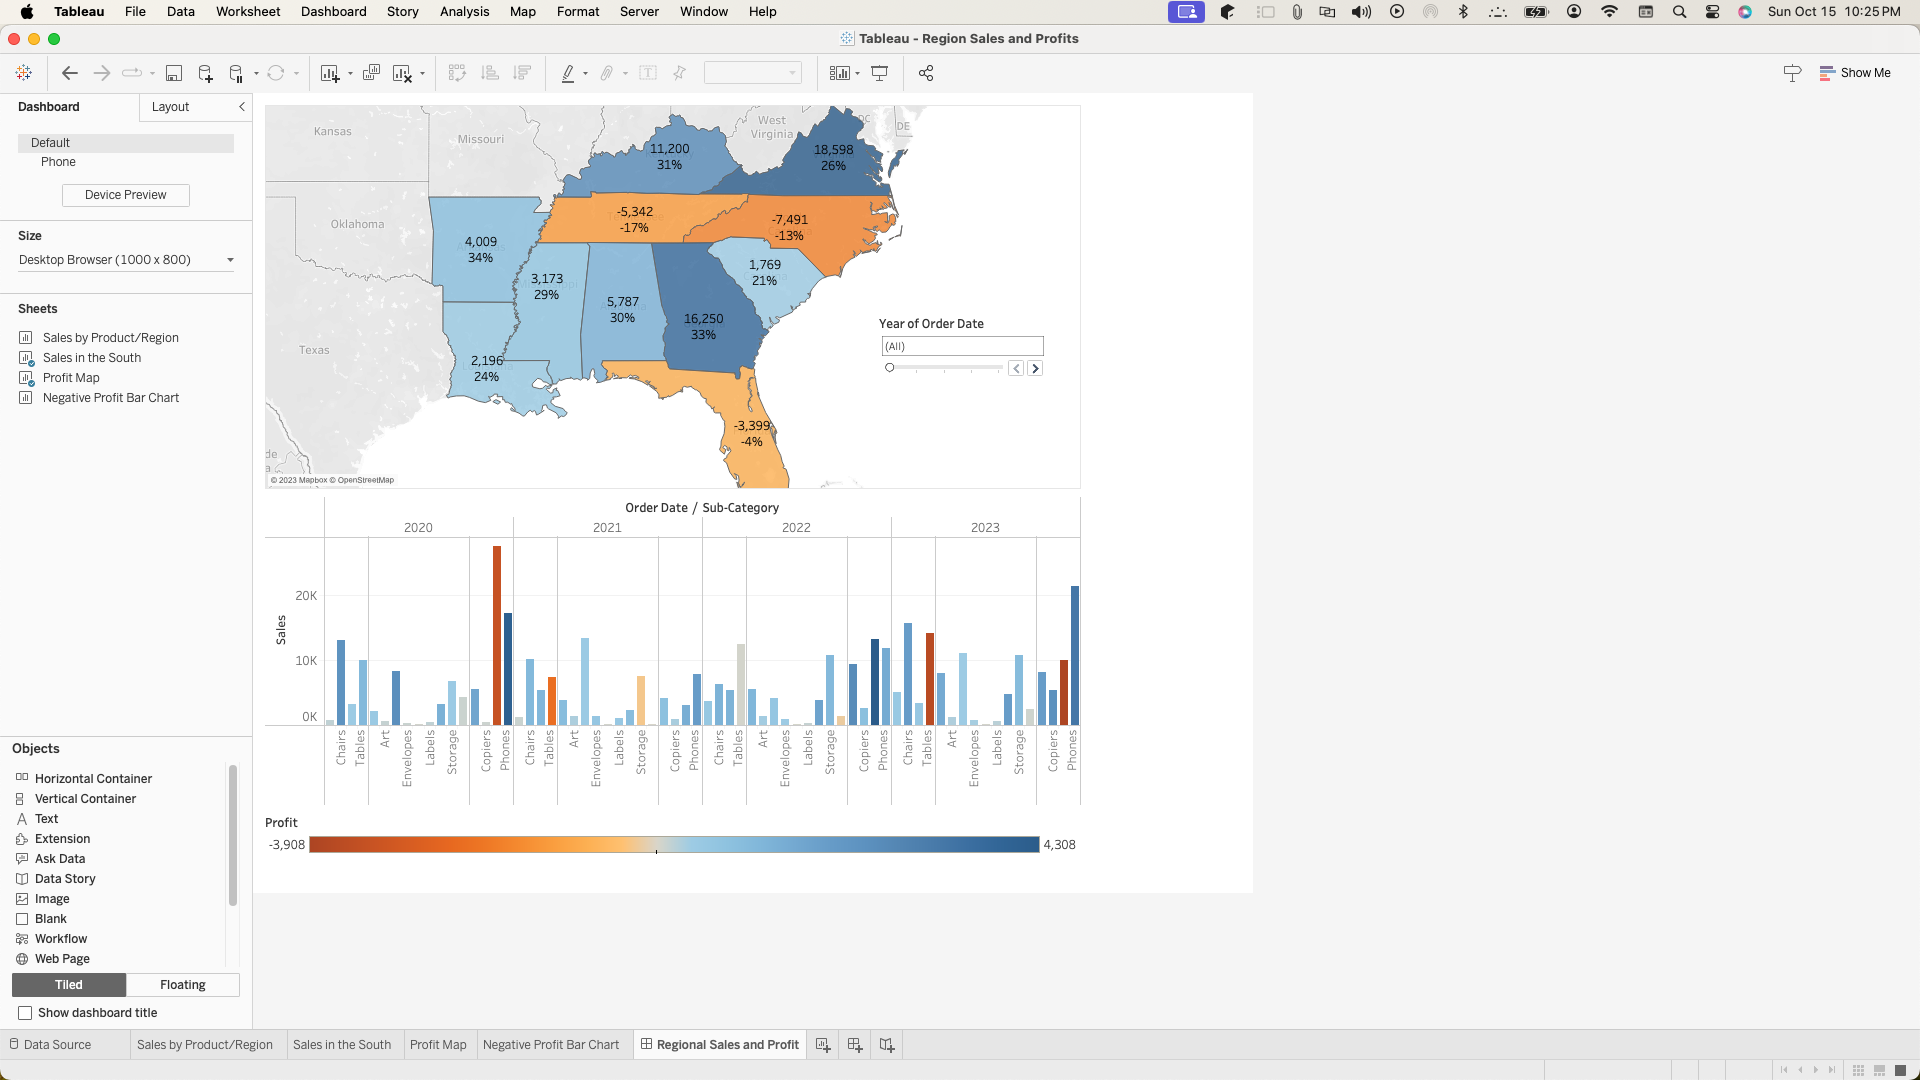

Layout of this report page (visuals, bound fields, positions):
{"tool":"tableau","page":{"name":"Regional Sales and Profit","canvas":[1000,800],"ordinal":0},"visuals":[{"type":"worksheet","title":"Profit Map","mark":"Automatic","box":[8,8,824,392]},{"type":"filter","title":"Sales in the South","param":"[Sample - Superstore].[yr:Order Date:ok]","box":[626,222,168,127]},{"type":"worksheet","title":"Sales in the South","mark":"Automatic","rows":["Region","Sales"],"cols":["Order Date","Category","Sub-Category"],"box":[8,400,824,317]},{"type":"legend","title":"Sales in the South","param":"[Sample - Superstore].[sum:Profit:qk]","box":[8,717,824,75]}]}

Visuals, with their boxes on the page's 1000x800 design canvas (x1, y1, x2, y2). These are canvas units, not pixel positions in the 1920x1080 screenshot, which may show the page scaled, cropped or inside an application window:
"Profit Map" worksheet: <region>8, 8, 832, 400</region>
"Sales in the South" filter: <region>626, 222, 794, 349</region>
"Sales in the South" worksheet: <region>8, 400, 832, 717</region>
"Sales in the South" legend: <region>8, 717, 832, 792</region>
